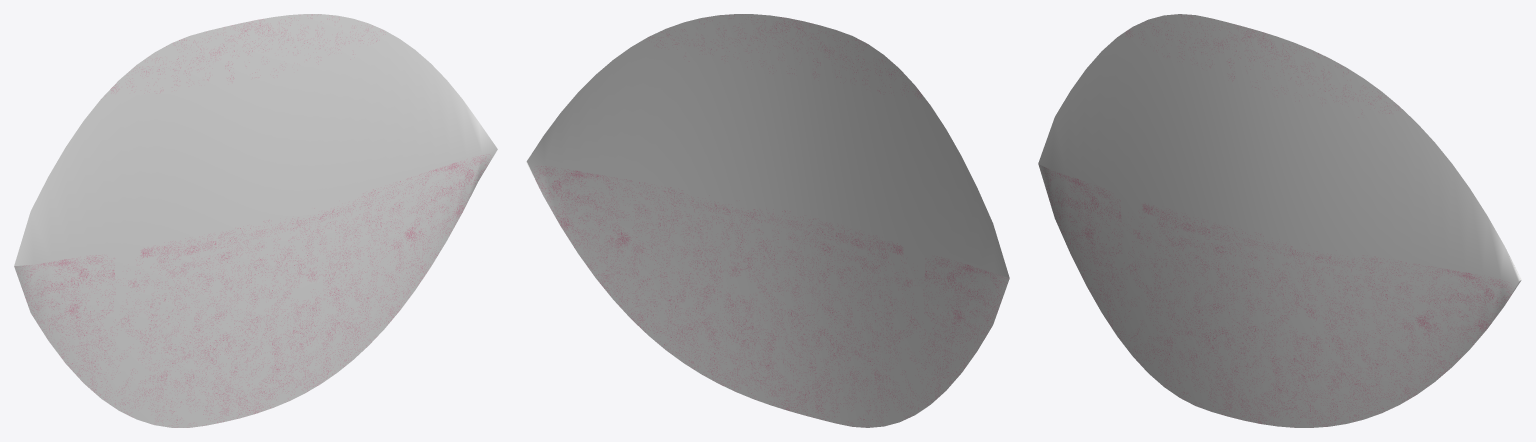
The model's file is kwiat-jabloni.fbx.
The picture shows the model from 3 angles, left to right: view 1: azimuth 30°, elevation 25°; view 2: azimuth 150°, elevation 25°; view 3: azimuth 330°, elevation 25°; orthographic projection.
Visible parts, largest first — view 1: Leaf_Generator; view 2: Leaf_Generator; view 3: Leaf_Generator.
Boxes of the visible parts, box(x1,y1,x2,y2) form: Leaf_Generator: box(14, 14, 497, 427); Leaf_Generator: box(526, 14, 1009, 427); Leaf_Generator: box(1038, 14, 1521, 427).
Bounding box in the file's own units: 124 × 96.67 × 8.06.
1 material, 1 textured.
